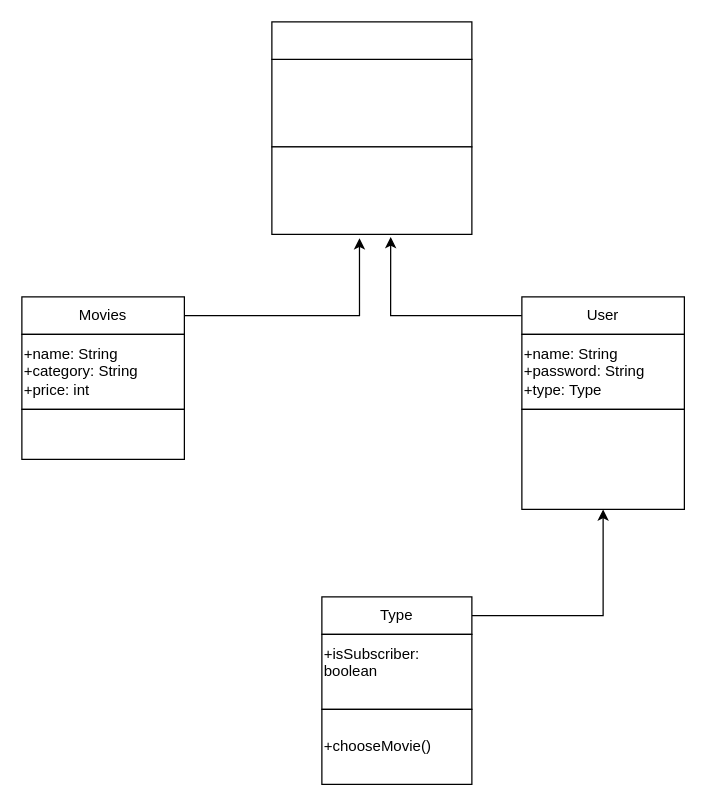
This 706x806 diagram has some shape labels left out. Here are the shapes that lost their labels. From the top down, the box of each, then its label:
(271, 21, 472, 59): MovieApp
(271, 58, 472, 147): +List<Movie>: Movie +List<User>: User
(271, 146, 472, 234): +subscribe() +logIn() +getMovies()
(521, 408, 684, 509): +changeType(Type) +buyCredit(int)
